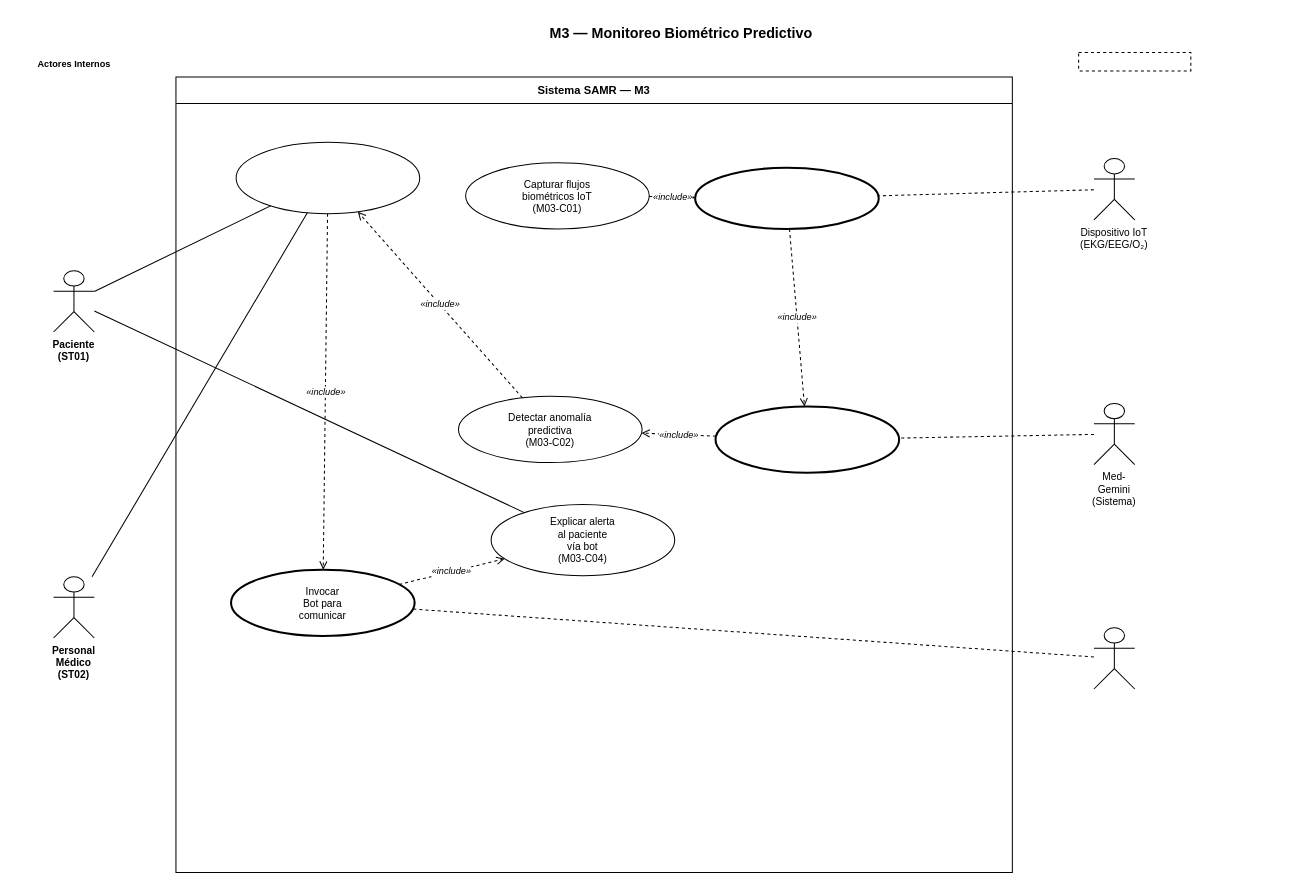
Some shapes in this 1310 by 890 pixel diagram are drawn without their labels. The centre of each missing label's shape, as x and y in pixels:
Actores Externos: point 1134,61
Bot (Sistema): point 1114,658
Generar alerta proactiva con datos IoT (M03-C03): point 327,177
Invocar Med-Gemini detección: point 807,439
Recibir lectura del dispositivo: point 786,198
